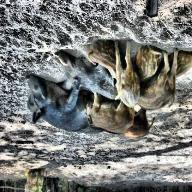boar: (51, 43, 152, 95), (22, 81, 110, 136), (135, 52, 185, 114), (112, 35, 142, 113), (84, 97, 134, 130)
